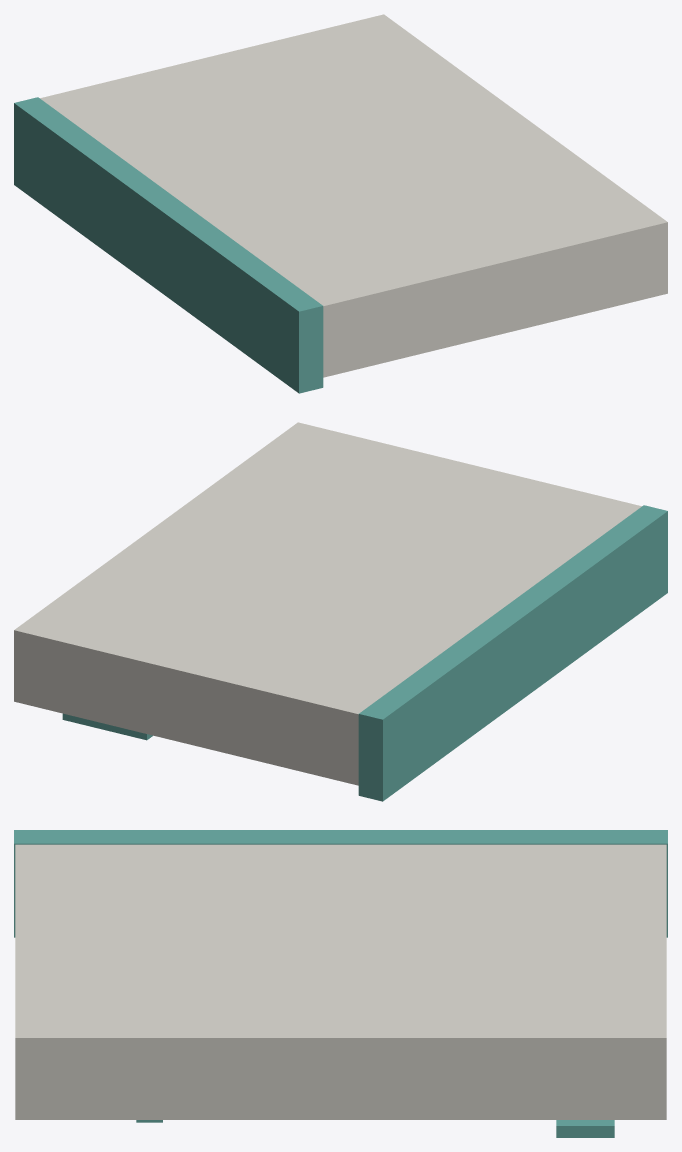
File: tournee.glb
The picture shows the model from 3 angles, top to bottom: view 1: azimuth 30°, elevation 25°; view 2: azimuth 150°, elevation 25°; view 3: azimuth 270°, elevation 25°; orthographic projection. The views are drawn at different scales.
Visible parts, largest first — view 1: La Tournee carton, La Tournee spine; view 2: La Tournee carton, La Tournee spine, La Tournee edition chip; view 3: La Tournee carton, La Tournee spine, La Tournee edition chip.
Boxes of the visible parts, left/top/right/bottom form: La Tournee carton: left=40, top=14, right=667, bottom=377; La Tournee spine: left=14, top=97, right=323, bottom=393; La Tournee carton: left=14, top=422, right=641, bottom=785; La Tournee spine: left=358, top=505, right=667, bottom=801; La Tournee edition chip: left=62, top=713, right=152, bottom=740; La Tournee carton: left=15, top=844, right=666, bottom=1119; La Tournee spine: left=14, top=830, right=667, bottom=937; La Tournee edition chip: left=556, top=1120, right=614, bottom=1137.
Bounding box in the file's own units: 1.84 × 0.4825 × 2.46.
